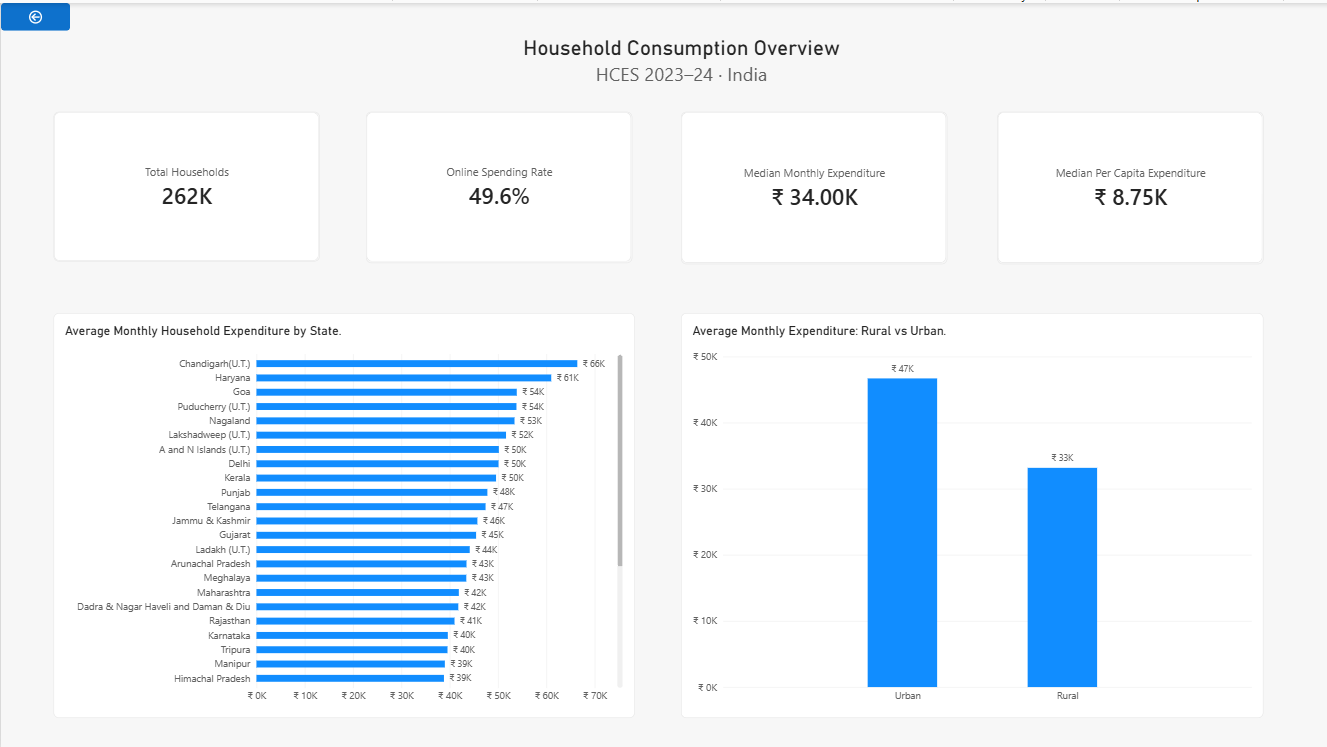

This screenshot's page, from the dashboard's own definition file:
{"tool":"powerbi","page":{"name":"Page 1","canvas":[1920,1080],"ordinal":0},"visuals":[{"type":"cardVisual","fields":{"Data":["hces_visit_adjusted_household_table csv.Total Households"]},"box":[76,157.4,385.5,217.2],"z":0},{"type":"clusteredBarChart","title":"Average Monthly Household Expenditure by State.","fields":{"Category":["State_Mapping.State_Name"],"Y":["Avg(hces_visit_adjusted_household_table csv.MONTHLY_EXP)"]},"box":[76,448.8,841.5,586.3],"z":1},{"type":"clusteredColumnChart","title":"Average Monthly Expenditure: Rural vs Urban.","fields":{"Category":["hces_visit_adjusted_household_table csv.Sector_Label"],"Y":["Avg(hces_visit_adjusted_household_table csv.MONTHLY_EXP)"]},"box":[984.5,448.8,843.3,586.3],"z":2},{"type":"textbox","title":"Household Consumption Overview","box":[682.2,47.1,606.2,74.2],"z":3},{"type":"cardVisual","fields":{"Data":["hces_visit_adjusted_household_table csv.Median Monthly Expenditure"]},"box":[984.5,157.4,385.5,220.8],"z":4},{"type":"cardVisual","fields":{"Data":["hces_visit_adjusted_household_table csv.Median Per Capita Expenditure"]},"box":[1442.3,157.4,385.5,220.8],"z":5},{"type":"cardVisual","fields":{"Data":["hces_visit_adjusted_household_table csv.Online Spending Rate"]},"box":[528.4,157.4,385.5,219],"z":6},{"type":"actionButton","box":[0,0,100,40],"z":7}]}

Visuals, with their boxes in screenshot pixels (x1, y1, x2, y2), scaled from the page's 1920x1080 canvas onto the 1327x747 screenshot:
cardVisual - hces_visit_adjusted_household_table csv.Total Households: <box>53,109,319,259</box>
"Average Monthly Household Expenditure by State." clusteredBarChart: <box>53,310,634,716</box>
"Average Monthly Expenditure: Rural vs Urban." clusteredColumnChart: <box>680,310,1263,716</box>
"Household Consumption Overview" textbox: <box>471,33,890,84</box>
cardVisual - hces_visit_adjusted_household_table csv.Median Monthly Expenditure: <box>680,109,947,262</box>
cardVisual - hces_visit_adjusted_household_table csv.Median Per Capita Expenditure: <box>997,109,1263,262</box>
cardVisual - hces_visit_adjusted_household_table csv.Online Spending Rate: <box>365,109,632,260</box>
actionButton: <box>0,0,69,28</box>
